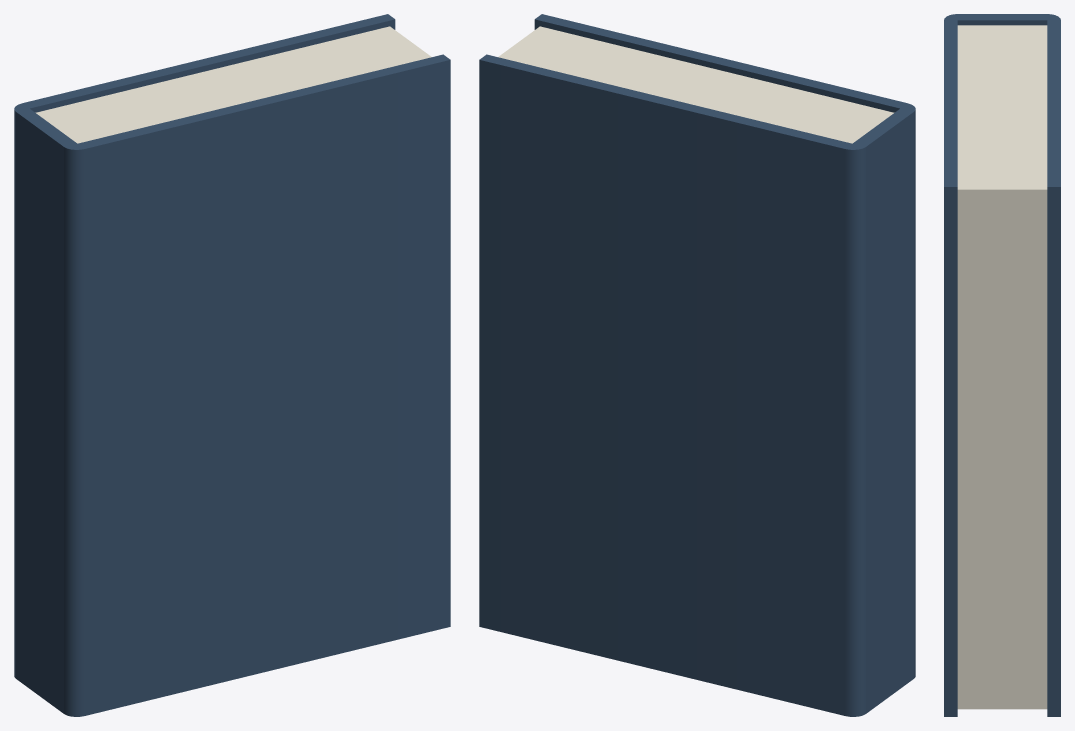
File: book_blue.fbx
3 views of the same model, side by side, from view 1: azimuth 30°, elevation 25°; view 2: azimuth 150°, elevation 25°; view 3: azimuth 270°, elevation 25° (orthographic). The views are drawn at different scales.
Parts seen in each view (by area): view 1: Cube, Cube.001; view 2: Cube, Cube.001; view 3: Cube.001, Cube.
Part boxes in pixels (left/top/right/bottom): Cube: left=14, top=14, right=450, bottom=716; Cube.001: left=35, top=26, right=431, bottom=143; Cube: left=479, top=14, right=915, bottom=716; Cube.001: left=498, top=26, right=894, bottom=143; Cube.001: left=957, top=25, right=1047, bottom=709; Cube: left=944, top=14, right=1060, bottom=716.
Size of the model in its own units: 140 by 200 by 40.
